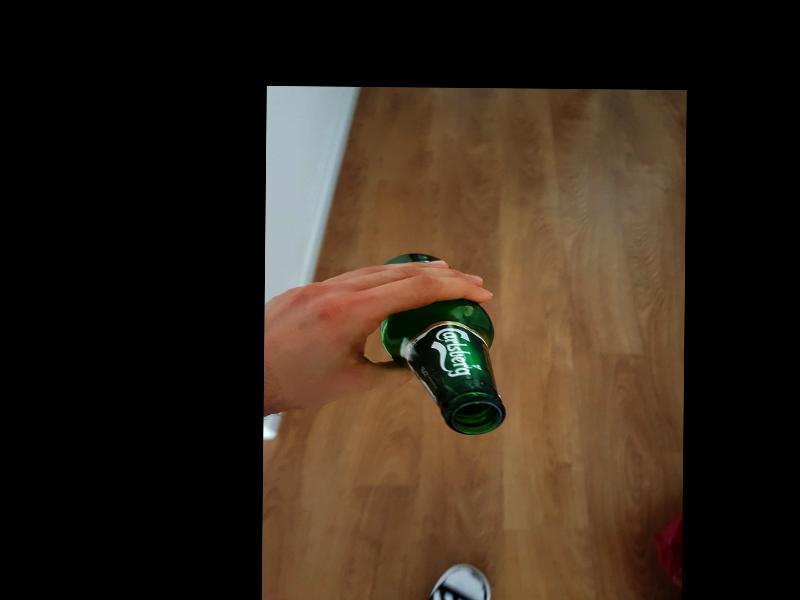Beer: (380, 253, 508, 434)
